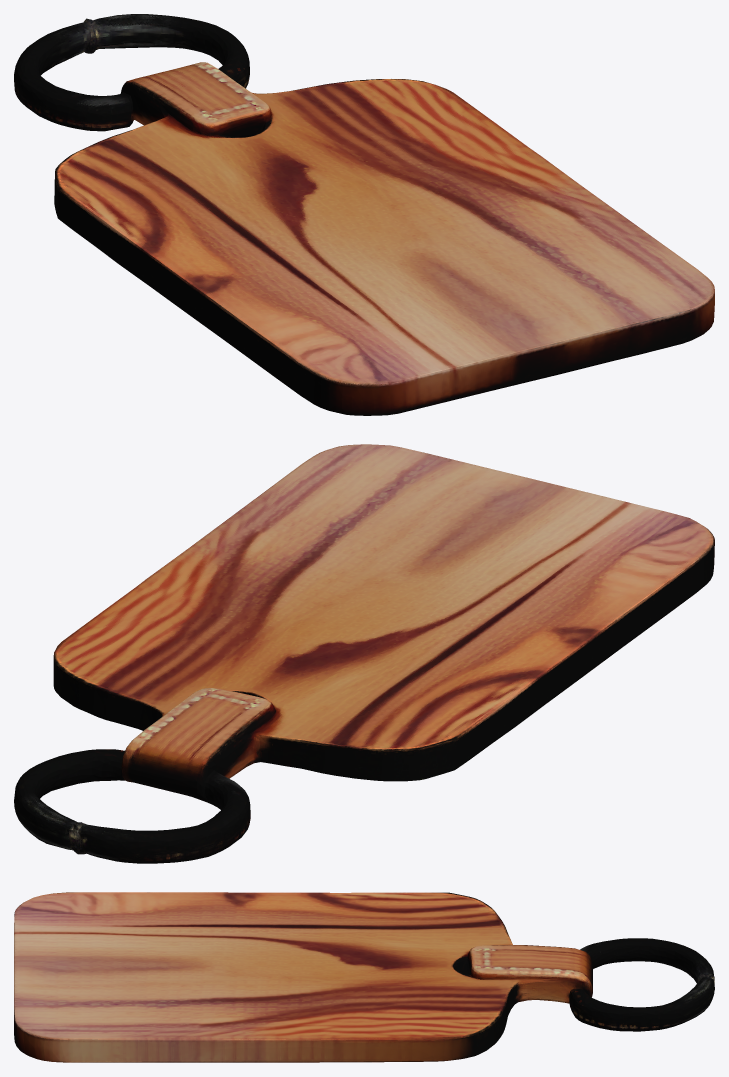
File: wooden-luggage-tag-rustic.jpeg.glb
The picture shows the model from 3 angles, top to bottom: view 1: azimuth 30°, elevation 25°; view 2: azimuth 150°, elevation 25°; view 3: azimuth 270°, elevation 25°; orthographic projection. The views are drawn at different scales.
Visible parts, largest first — view 1: world; view 2: world; view 3: world.
Part boxes in pixels (box(x1,y1,x2,y2)): world: box(14, 14, 714, 415); world: box(14, 444, 714, 863); world: box(14, 892, 714, 1062).
Size of the model in its own units: 0.4978 by 0.0595 by 1.
Materials: 1 (1 with a texture image).
